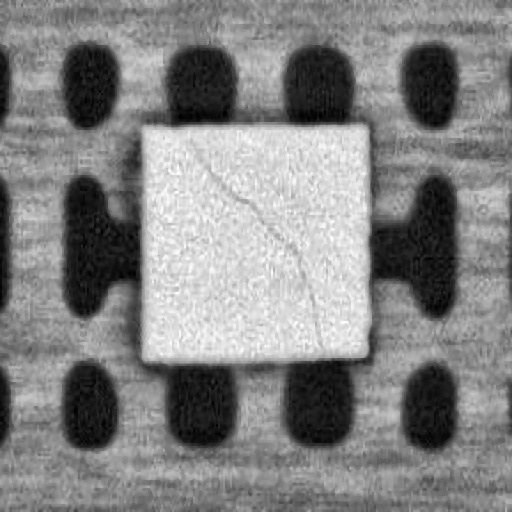DIE_CRACK: (188, 132, 322, 352)
